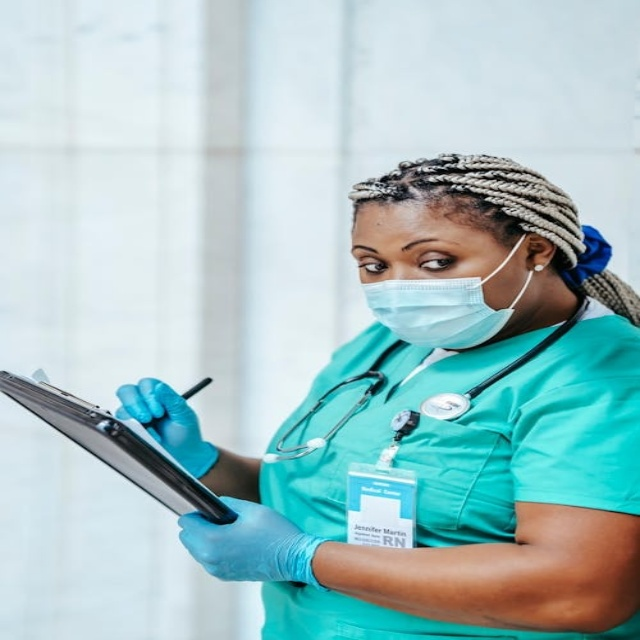Guantes: (176, 495, 340, 589), (115, 379, 218, 480)
Mascara: (361, 233, 531, 350)
Sin_gafas: (352, 232, 479, 282)
